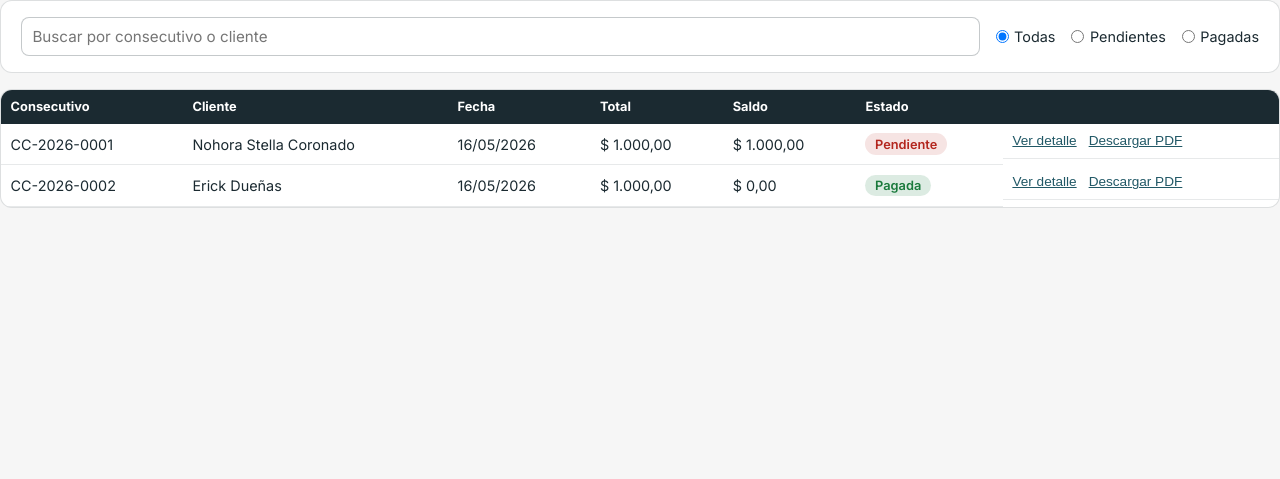
Test case: HistorialList › no permite un abono manual mayor al saldo pendiente
This screenshot has width=1280, height=479.
Expected: the text "CC-2026-0001" is shown, [1, 124, 183, 165]
Click the button "Ver detalle" in the row of "CC-2026-0001": (1045, 141) [1012, 133, 1077, 148]
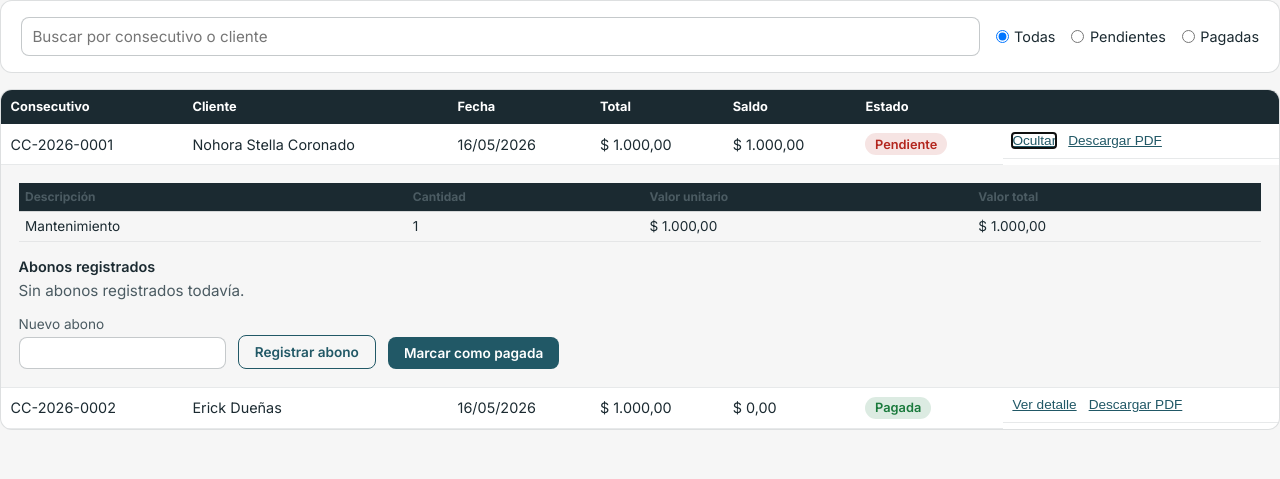
In the number field labelled "Nuevo abono": (122, 353) [19, 337, 226, 369], type "5000"
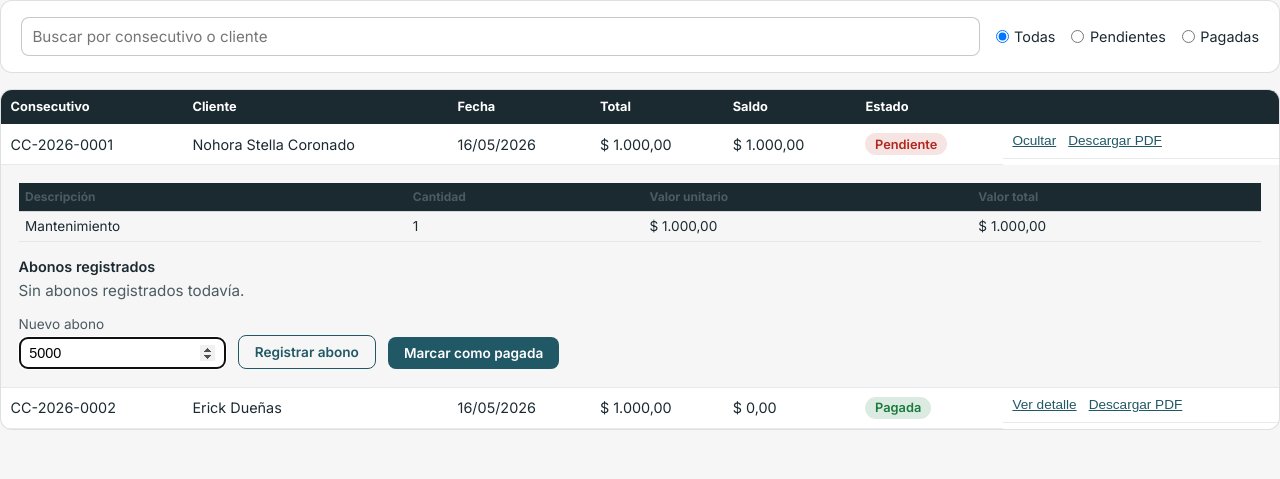
Click the button "Registrar abono": (307, 352) [238, 335, 376, 369]
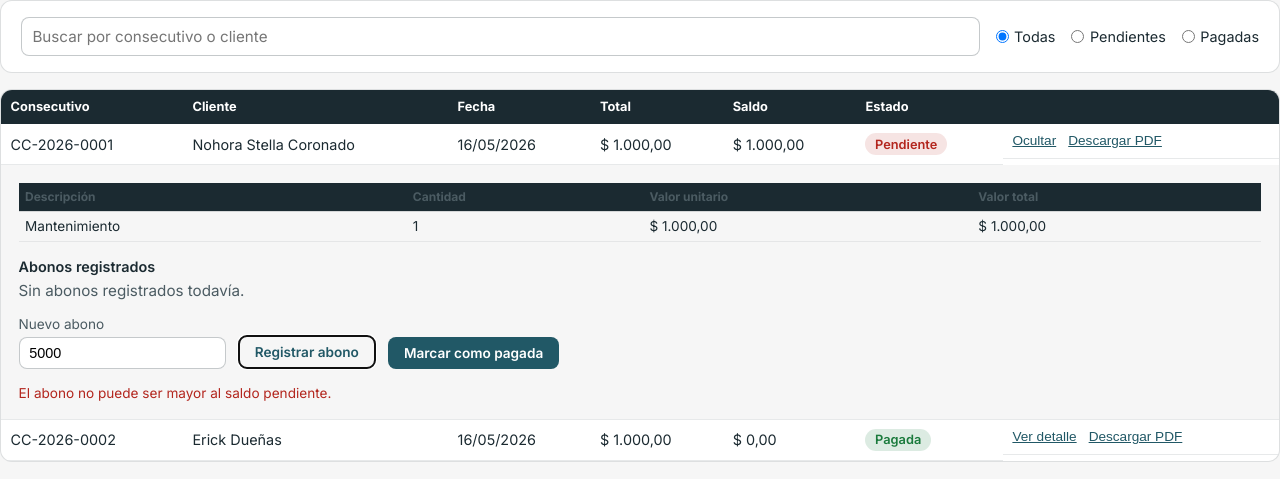
Expected: the text "El abono no puede ser mayor al saldo pendiente." is shown, [19, 385, 331, 401]
